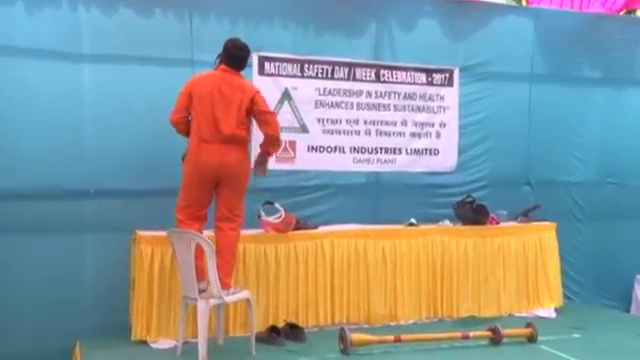helmet_off: (218, 36, 251, 75)
person: (167, 34, 280, 302)
